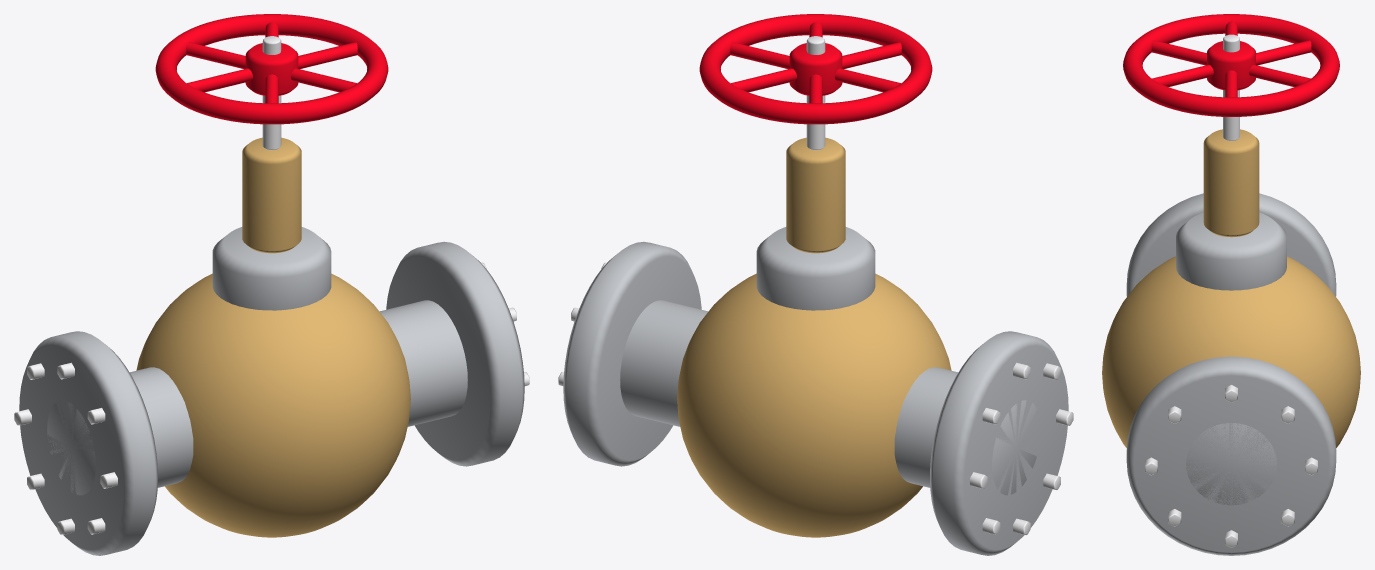
Rendered from sample-industrial.glb.
The picture shows the model from 3 angles, left to right: view 1: azimuth 30°, elevation 25°; view 2: azimuth 150°, elevation 25°; view 3: azimuth 270°, elevation 25°; orthographic projection. The views are drawn at different scales.
Visible parts, largest first — view 1: sample-industrial; view 2: sample-industrial; view 3: sample-industrial.
Part boxes in pixels (x1,y1,x2,y2): sample-industrial: [14, 14, 529, 555]; sample-industrial: [558, 14, 1073, 555]; sample-industrial: [1102, 14, 1360, 555].
Size of the model in its own units: 0.74 by 0.81 by 0.42.
